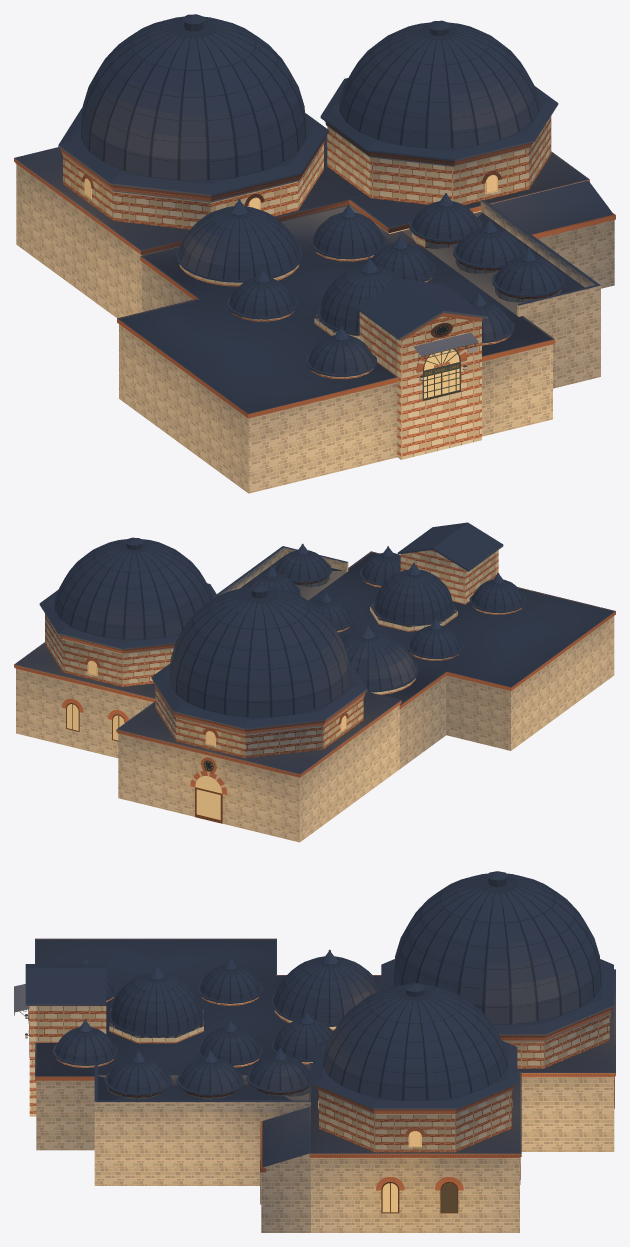
The model's file is orhan-bey-hamami_v08_night.glb.
The picture shows the model from 3 angles, top to bottom: view 1: azimuth 30°, elevation 25°; view 2: azimuth 150°, elevation 25°; view 3: azimuth 270°, elevation 25°; orthographic projection. The views are drawn at different scales.
Visible parts, largest first — view 1: Hamam_Sicaklik, Hamam_Sogukluk_Erkek, Hamam_Sogukluk_Kadin, Hamam_Giris, Hamam_Giris_Kadin; view 2: Hamam_Sogukluk_Erkek, Hamam_Sicaklik, Hamam_Sogukluk_Kadin, Hamam_Giris; view 3: Hamam_Sicaklik, Hamam_Sogukluk_Kadin, Hamam_Sogukluk_Erkek, Hamam_Giris, Hamam_Giris_Kadin.
Boxes of the visible parts, x1=… form: Hamam_Sicaklik: x1=117, y1=193, x2=600, y2=493; Hamam_Sogukluk_Erkek: x1=14, y1=14, x2=366, y2=318; Hamam_Sogukluk_Kadin: x1=320, y1=20, x2=589, y2=233; Hamam_Giris: x1=355, y1=278, x2=488, y2=459; Hamam_Giris_Kadin: x1=490, y1=180, x2=615, y2=288; Hamam_Sogukluk_Erkek: x1=116, y1=584, x2=401, y2=842; Hamam_Sicaklik: x1=217, y1=543, x2=615, y2=768; Hamam_Sogukluk_Kadin: x1=14, y1=537, x2=217, y2=758; Hamam_Giris: x1=397, y1=522, x2=503, y2=604; Hamam_Sicaklik: x1=35, y1=938, x2=381, y2=1185; Hamam_Sogukluk_Kadin: x1=309, y1=983, x2=521, y2=1232; Hamam_Sogukluk_Erkek: x1=381, y1=871, x2=615, y2=1151; Hamam_Giris: x1=14, y1=964, x2=106, y2=1116; Hamam_Giris_Kadin: x1=260, y1=1107, x2=310, y2=1232.
Size of the model in its own units: 31.62 by 15.2 by 36.23.
Materials: 15 (5 with a texture image).
